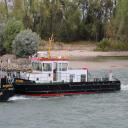tugboat: (8, 51, 123, 99)
